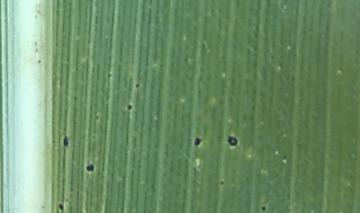tarspot: (224, 131, 241, 150), (191, 134, 205, 149), (83, 161, 97, 175), (61, 131, 71, 150), (52, 202, 67, 213), (125, 100, 135, 115), (259, 201, 269, 213), (105, 70, 115, 82), (278, 152, 291, 161), (133, 80, 143, 90), (216, 178, 227, 187), (93, 111, 100, 123)
